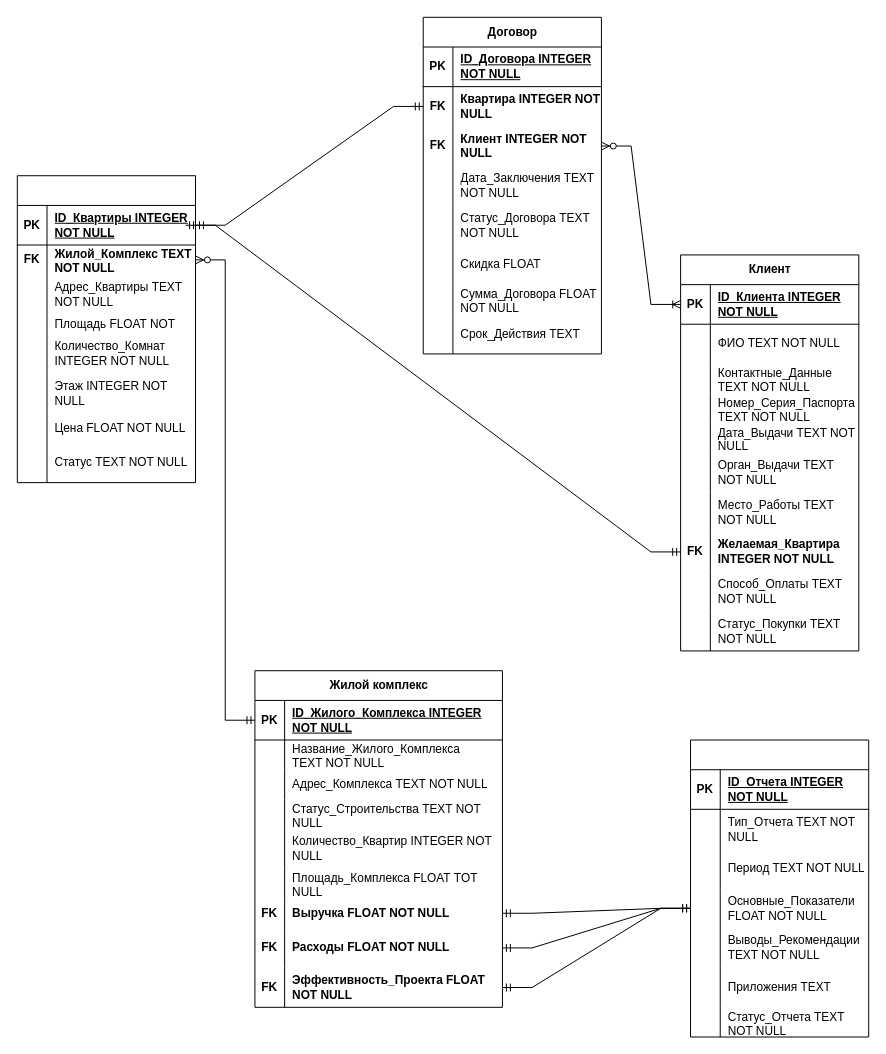
Some shapes in this 886 by 1054 pixel diagram are drawn without their labels. The box of each missing label's shape, as (x1, y1, x2, y2) in pixels:
Квартира: (16, 175, 196, 483)
Отчеты: (690, 739, 869, 1037)
